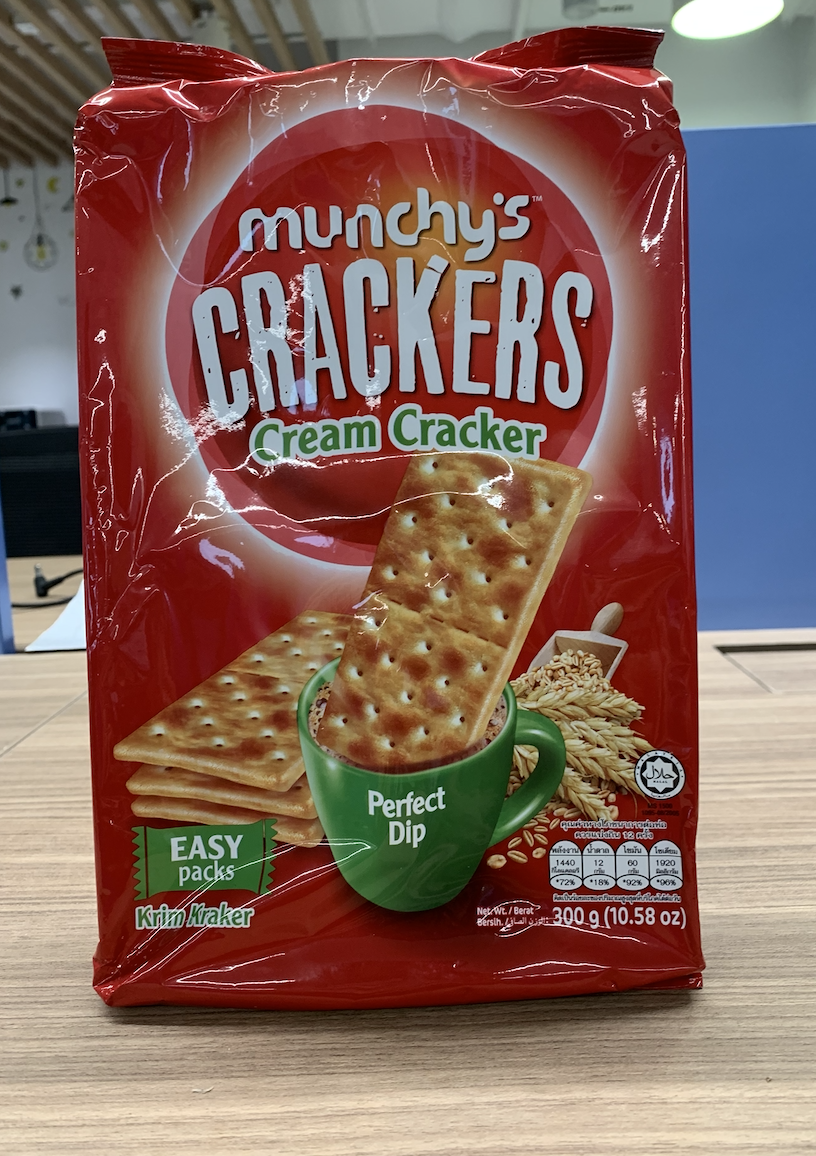crackers_450g: (105, 128, 690, 933)
